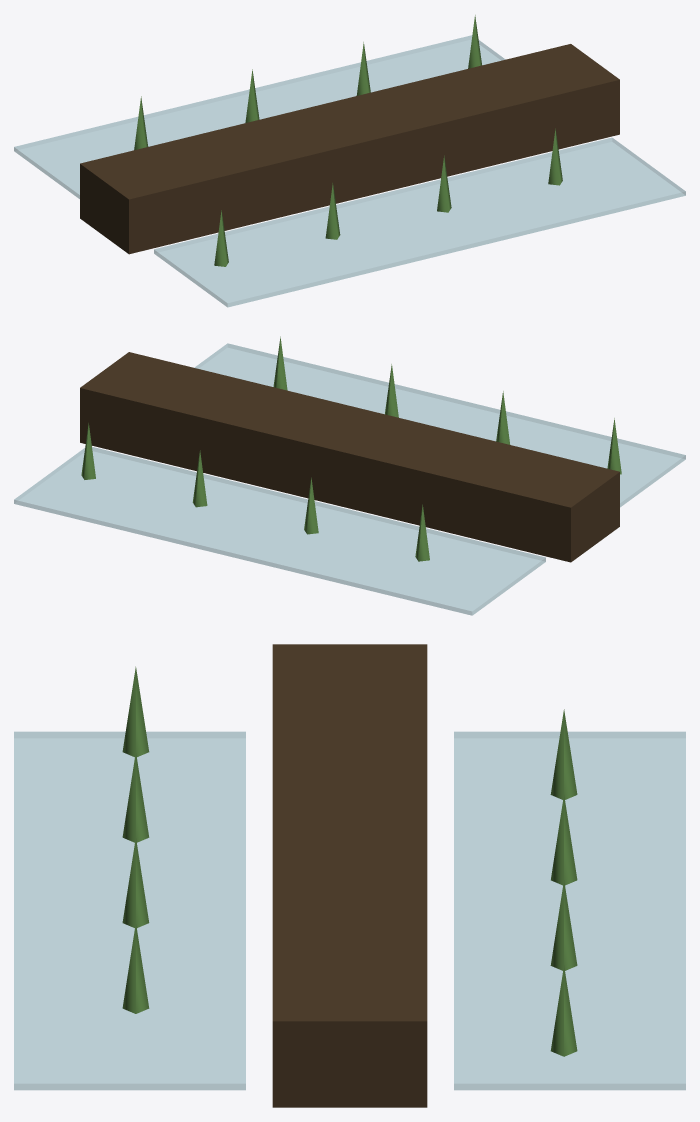
The model's file is rice-dike.glb.
The picture shows the model from 3 angles, top to bottom: view 1: azimuth 30°, elevation 25°; view 2: azimuth 150°, elevation 25°; view 3: azimuth 270°, elevation 25°; orthographic projection. The views are drawn at different scales.
Visible parts, largest first — view 1: mudDike, waterLeft, waterRight, riceShoot3, riceShoot5, riceShoot7, riceShoot1; view 2: mudDike, waterRight, waterLeft, riceShoot2, riceShoot6, riceShoot4, riceShoot8; view 3: waterLeft, waterRight, mudDike, riceShoot7, riceShoot8, riceShoot3, riceShoot1, riceShoot2, riceShoot5, riceShoot6, riceShoot4.
Boxes of the visible parts, bbox=[...] form: mudDike: bbox=[80, 44, 619, 254]; waterLeft: bbox=[154, 137, 685, 307]; waterRight: bbox=[14, 35, 505, 198]; riceShoot3: bbox=[325, 183, 340, 239]; riceShoot5: bbox=[437, 155, 451, 212]; riceShoot7: bbox=[548, 128, 562, 185]; riceShoot1: bbox=[214, 210, 228, 266]; mudDike: bbox=[80, 352, 619, 562]; waterRight: bbox=[14, 447, 545, 615]; waterLeft: bbox=[194, 343, 685, 507]; riceShoot2: bbox=[415, 504, 429, 561]; riceShoot6: bbox=[192, 450, 207, 507]; riceShoot4: bbox=[304, 477, 318, 534]; riceShoot8: bbox=[81, 423, 95, 479]; waterLeft: bbox=[14, 731, 245, 1090]; waterRight: bbox=[454, 731, 685, 1090]; mudDike: bbox=[272, 644, 427, 1107]; riceShoot7: bbox=[122, 923, 149, 1013]; riceShoot8: bbox=[550, 965, 577, 1056]; riceShoot3: bbox=[122, 752, 149, 842]; riceShoot1: bbox=[122, 666, 149, 757]; riceShoot2: bbox=[550, 709, 577, 799]; riceShoot5: bbox=[122, 837, 149, 927]; riceShoot6: bbox=[550, 880, 577, 970]; riceShoot4: bbox=[551, 795, 577, 885].
Bounding box in the file's own units: 3 × 0.38 × 2.26.
